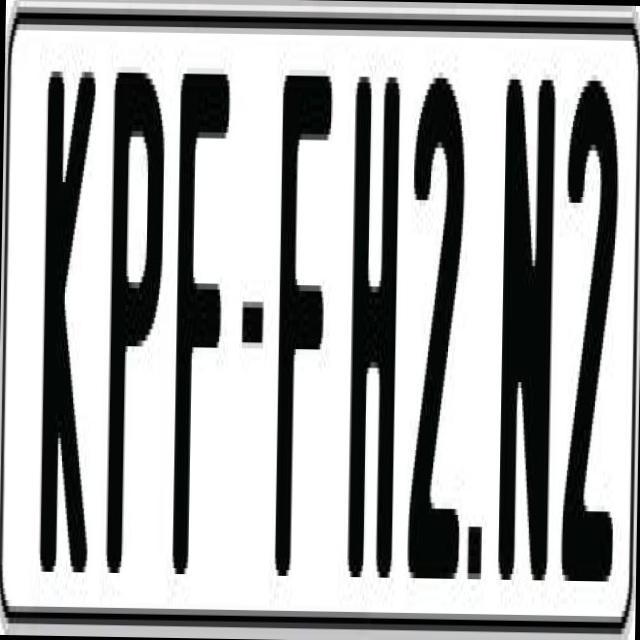2: (406, 71, 474, 573), (560, 68, 623, 604)
F: (272, 74, 334, 606), (172, 67, 230, 569)
H: (347, 76, 400, 583)
K: (38, 65, 98, 572)
N: (496, 72, 556, 598)
P: (105, 66, 168, 585)
